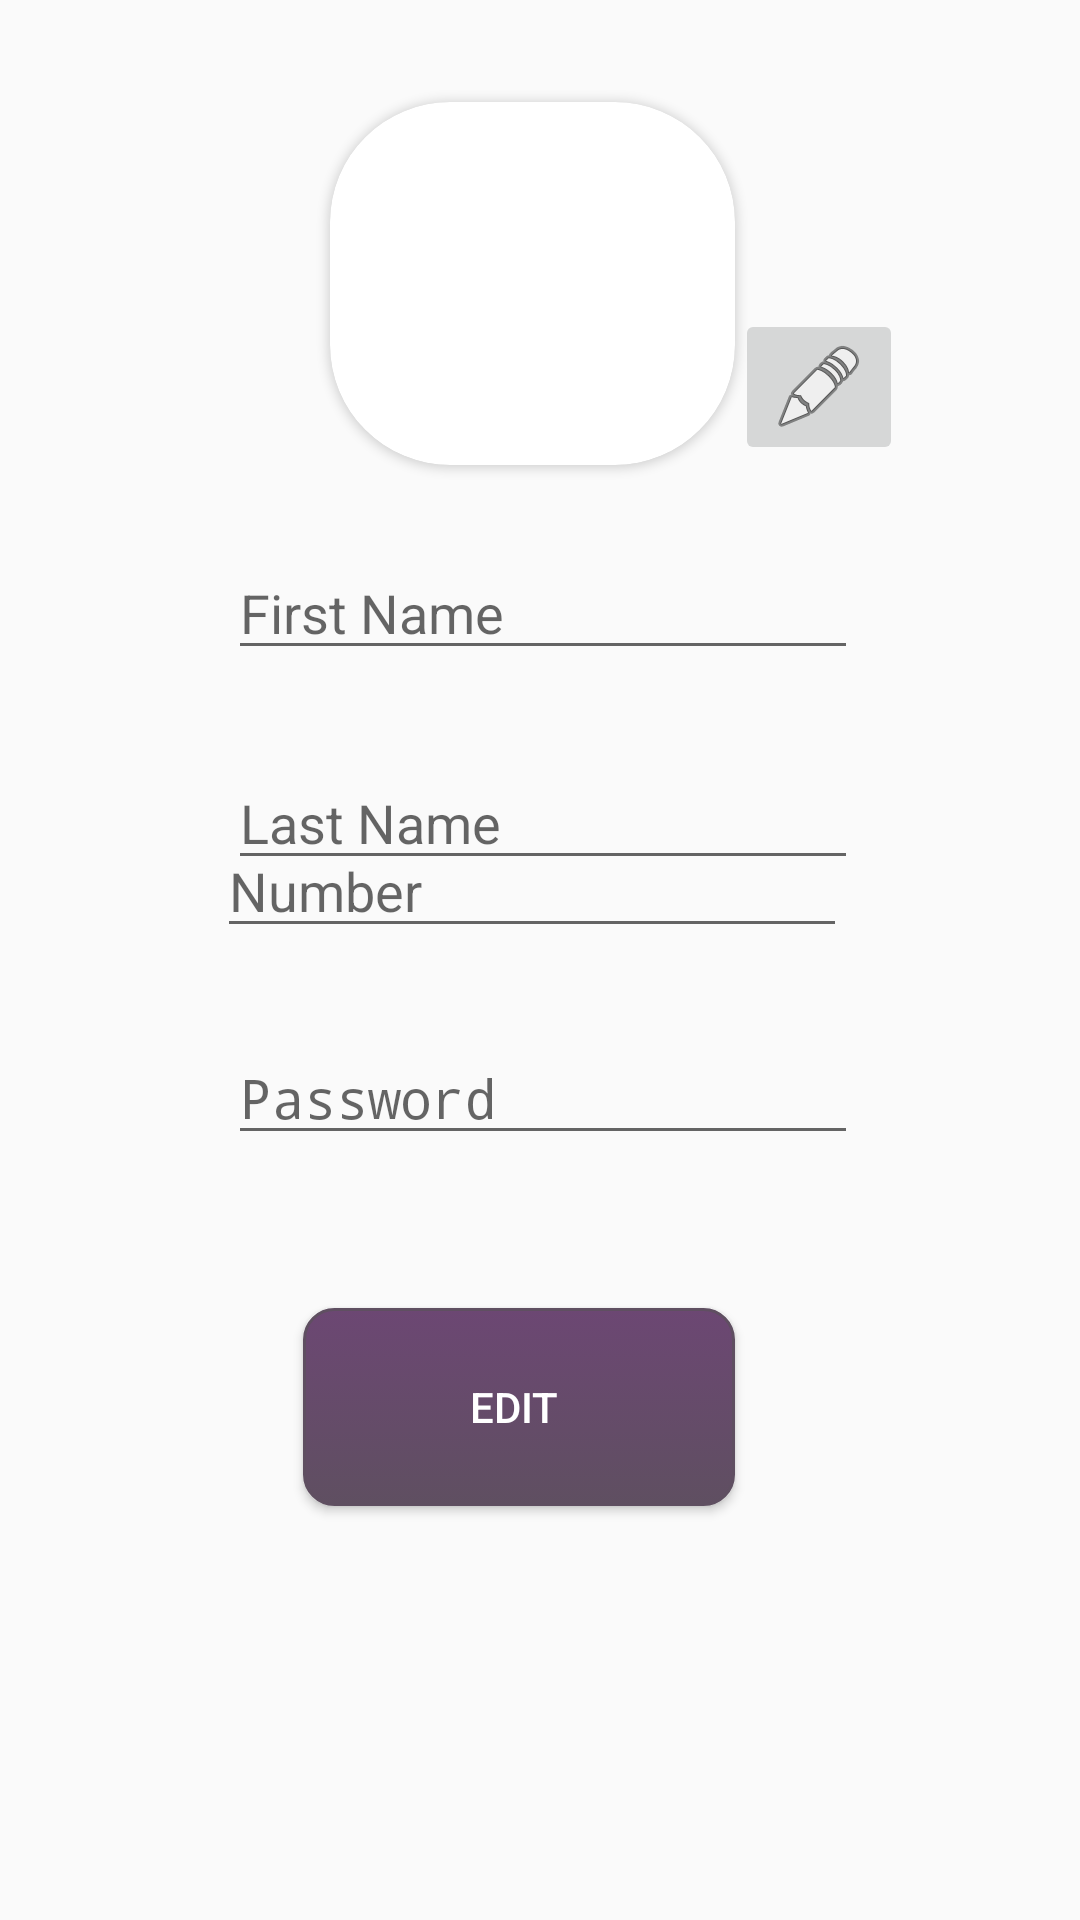

Screen size 1080*1920. Icon name, then its center in pixels as (x,y):
edit: (819,387)
